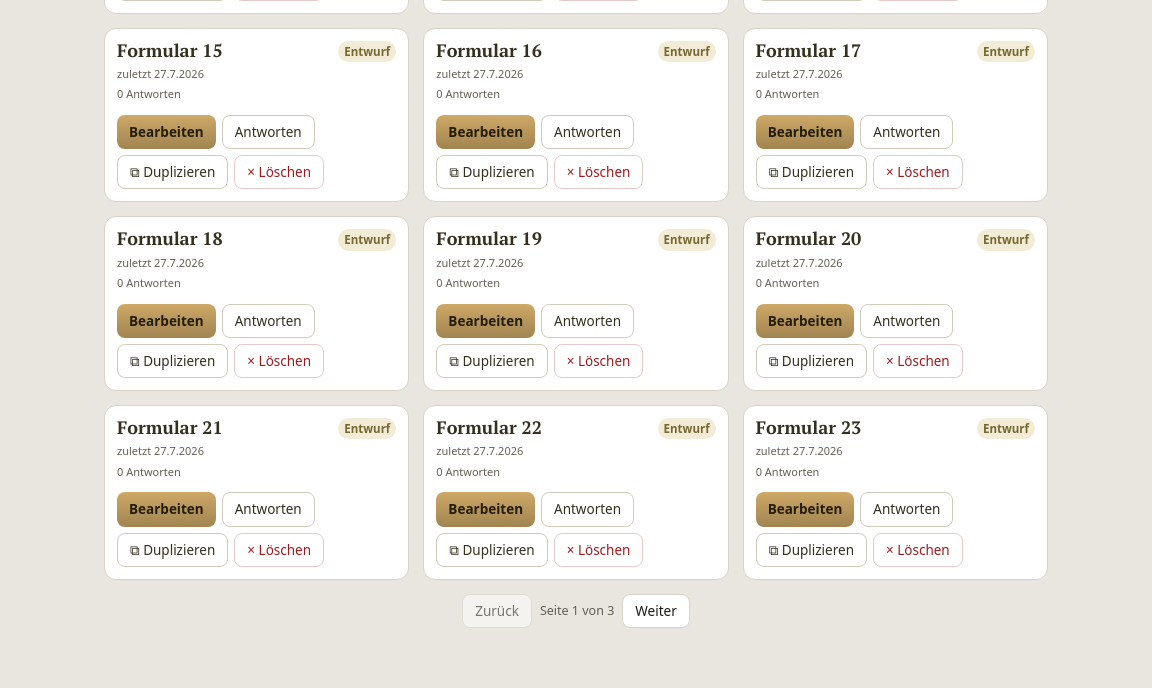
Test: DashboardView › page, search and counter › shows the pager and loads the next page when it is pressed
(page scrolled)
Expected: the text "Seite 1 von 3" is shown, [540, 602, 614, 620]
Click the button with aria-label "Nächste Seite der Formularliste" at x=656, y=611, box [622, 594, 690, 628]
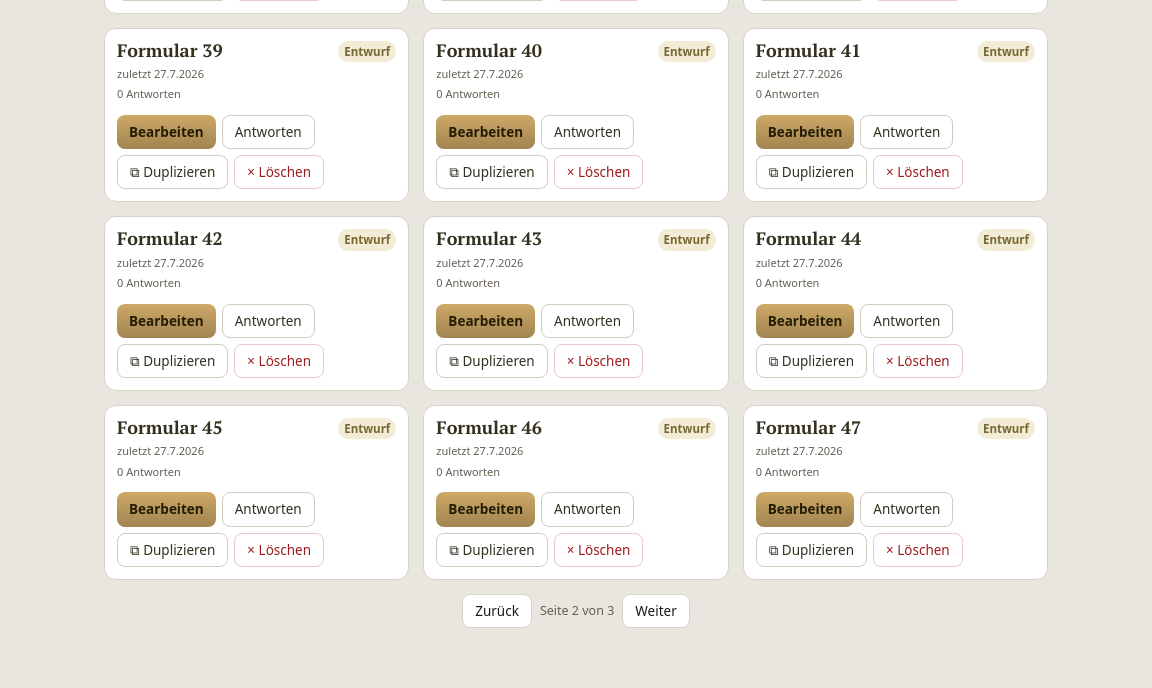
Expected: the text "Seite 2 von 3" is shown, [540, 602, 614, 620]
